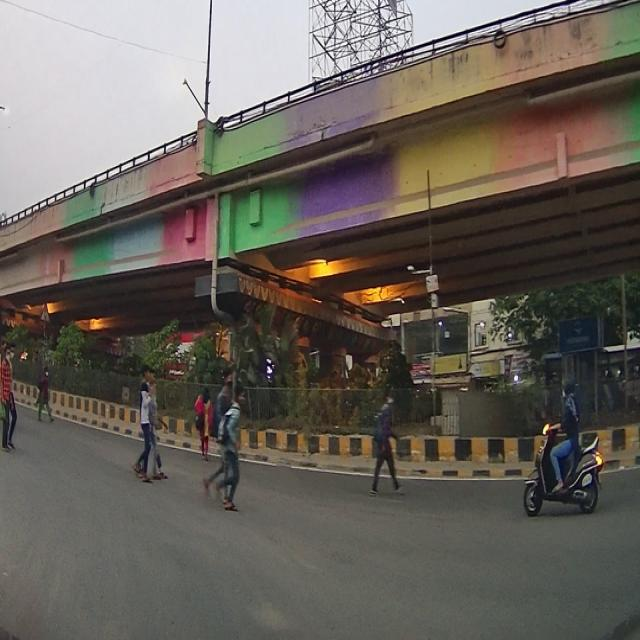gap-in-median: (37, 294, 54, 323)
